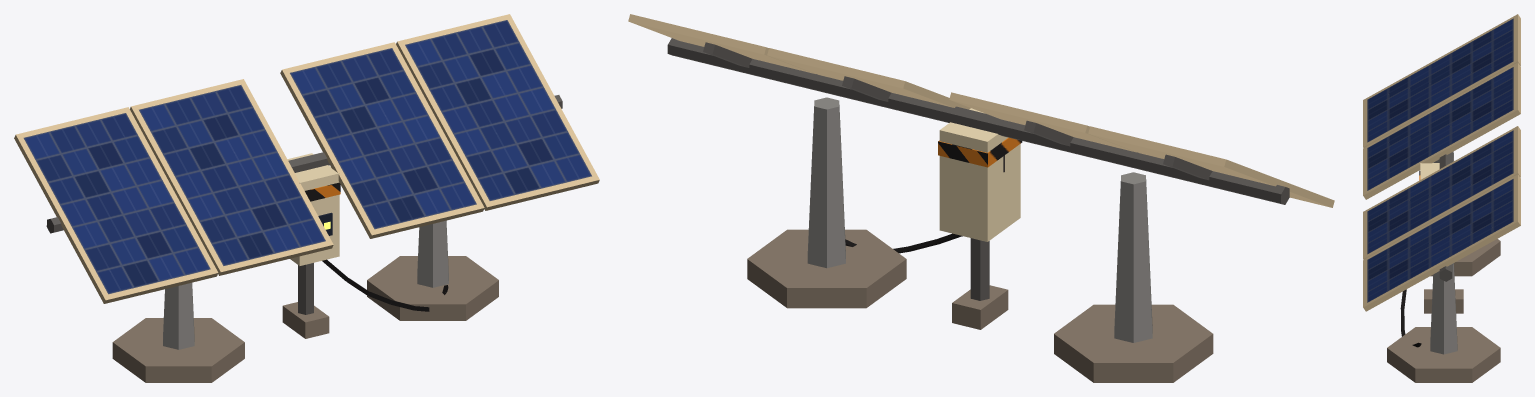
File: solar-T3-sledovac.glb
The picture shows the model from 3 angles, left to right: view 1: azimuth 30°, elevation 25°; view 2: azimuth 150°, elevation 25°; view 3: azimuth 270°, elevation 25°; orthographic projection. The views are drawn at different scales.
Parts seen in each view (by area): view 1: solar-T3-sledovac; view 2: solar-T3-sledovac; view 3: solar-T3-sledovac.
Part boxes in pixels (x1,y1,x2,y2): solar-T3-sledovac: (14, 14, 599, 382); solar-T3-sledovac: (628, 14, 1334, 382); solar-T3-sledovac: (1363, 14, 1520, 382).
Size of the model in its own units: 5.89 by 2.46 by 1.84.
12 materials, 2 textured.
